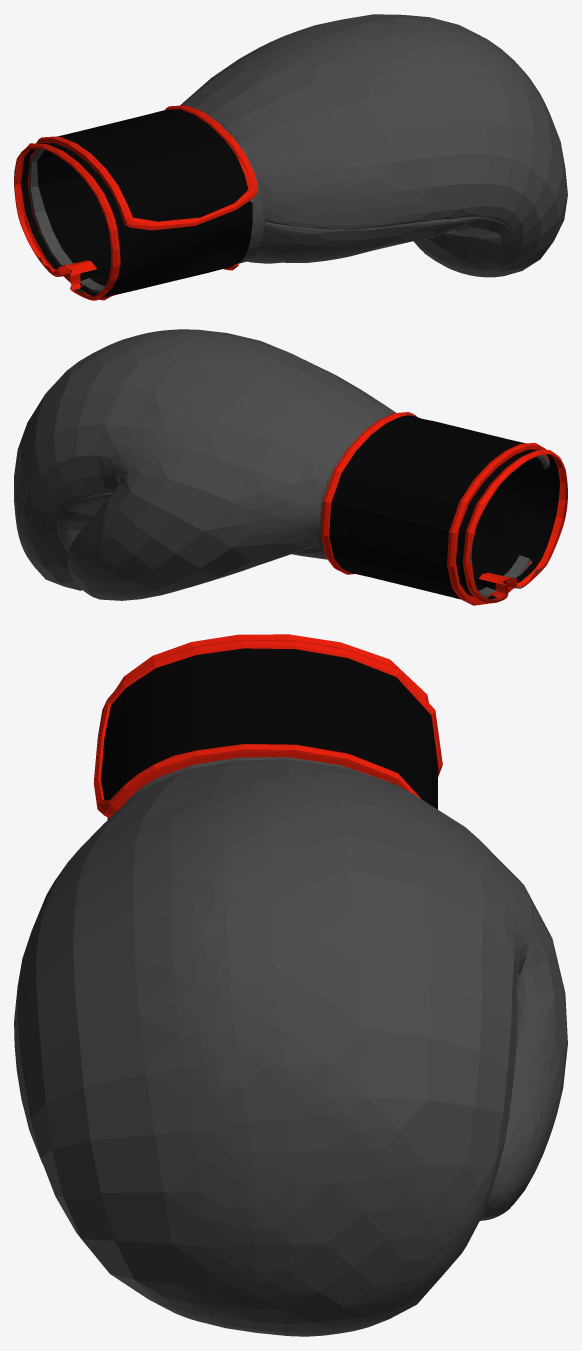
Rendered from Siyah_Boks_Eldiveni_Sag.fbx.
3 views of the same model, one above another, from view 1: azimuth 30°, elevation 25°; view 2: azimuth 150°, elevation 25°; view 3: azimuth 270°, elevation 25° (orthographic). The views are drawn at different scales.
Parts seen in each view (by area): view 1: 15969_Boxing_Glove_new; view 2: 15969_Boxing_Glove_new; view 3: 15969_Boxing_Glove_new.
Boxes of the visible parts, <box> form: 15969_Boxing_Glove_new: <box>14,14,567,300</box>; 15969_Boxing_Glove_new: <box>14,329,567,605</box>; 15969_Boxing_Glove_new: <box>14,634,567,1336</box>.
Size of the model in its own units: 2301 by 1157 by 1369.
